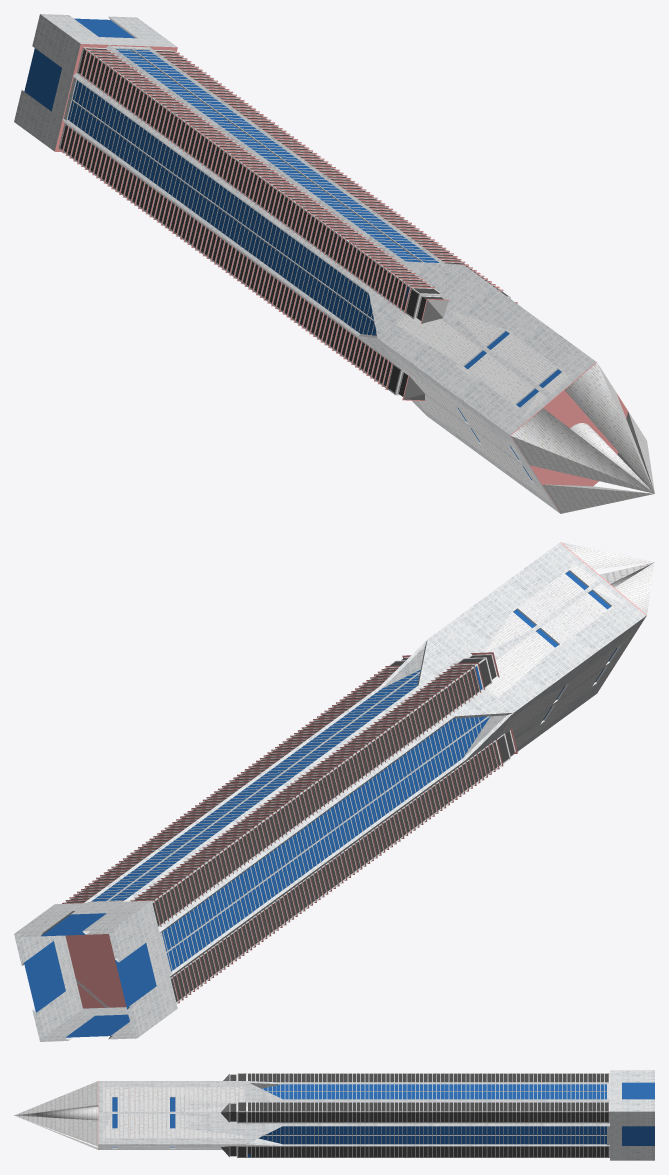
The model's file is Sky058.obj.
3 views of the same model, one above another, from view 1: azimuth 30°, elevation 25°; view 2: azimuth 150°, elevation 25°; view 3: azimuth 270°, elevation 25° (orthographic). The views are drawn at different scales.
Visible parts, largest first — view 1: wall_05, glass_02, wall_2_01, glass_1_01, slab_02, wall_3_01, wall_1_04, wall_1_06, wall_02, wall_1_03, wall_03, roof_01; view 2: wall_05, glass_02, glass_1_01, slab_02, wall_2_01, wall_3_01, wall_02, wall_1_04, wall_1_06, wall_1_03, wall_03; view 3: glass_1_01, glass_02, wall_05, wall_2_01, wall_1_04, wall_3_01, wall_1_03, wall_02, wall_03, glass_1_02, roof_01, wall_1_01.
Part boxes in pixels (x1=…): wall_05: x1=62, y1=45, x2=595, y2=512; glass_02: x1=24, y1=18, x2=561, y2=480; wall_2_01: x1=384, y1=309, x2=654, y2=513; glass_1_01: x1=60, y1=48, x2=507, y2=392; slab_02: x1=55, y1=44, x2=627, y2=513; wall_3_01: x1=69, y1=48, x2=440, y2=335; wall_1_04: x1=63, y1=50, x2=494, y2=384; wall_1_06: x1=60, y1=48, x2=510, y2=395; wall_02: x1=14, y1=14, x2=177, y2=151; wall_1_03: x1=59, y1=48, x2=509, y2=394; wall_03: x1=51, y1=37, x2=148, y2=119; roof_01: x1=403, y1=299, x2=516, y2=400; wall_05: x1=65, y1=542, x2=646, y2=1007; glass_02: x1=24, y1=571, x2=617, y2=1037; glass_1_01: x1=67, y1=658, x2=509, y2=1001; slab_02: x1=62, y1=542, x2=646, y2=1008; wall_2_01: x1=484, y1=542, x2=654, y2=747; wall_3_01: x1=90, y1=671, x2=489, y2=971; wall_02: x1=14, y1=900, x2=177, y2=1041; wall_1_04: x1=69, y1=666, x2=497, y2=1000; wall_1_06: x1=68, y1=655, x2=514, y2=1008; wall_1_03: x1=65, y1=658, x2=509, y2=1002; wall_03: x1=54, y1=901, x2=169, y2=1015; glass_1_01: x1=238, y1=1073, x2=608, y2=1157; glass_02: x1=112, y1=1082, x2=654, y2=1147; wall_05: x1=98, y1=1081, x2=609, y2=1149; wall_2_01: x1=14, y1=1081, x2=244, y2=1149; wall_1_04: x1=251, y1=1073, x2=604, y2=1157; wall_3_01: x1=259, y1=1084, x2=606, y2=1144; wall_1_03: x1=238, y1=1073, x2=609, y2=1157; wall_02: x1=610, y1=1070, x2=654, y2=1160; wall_03: x1=610, y1=1082, x2=621, y2=1145; glass_1_02: x1=230, y1=1074, x2=236, y2=1156; roof_01: x1=220, y1=1074, x2=229, y2=1156; wall_1_01: x1=237, y1=1073, x2=609, y2=1157.
Bounding box in the file's own units: 2482 × 2482 × 18274.
6 materials, 2 textured.
